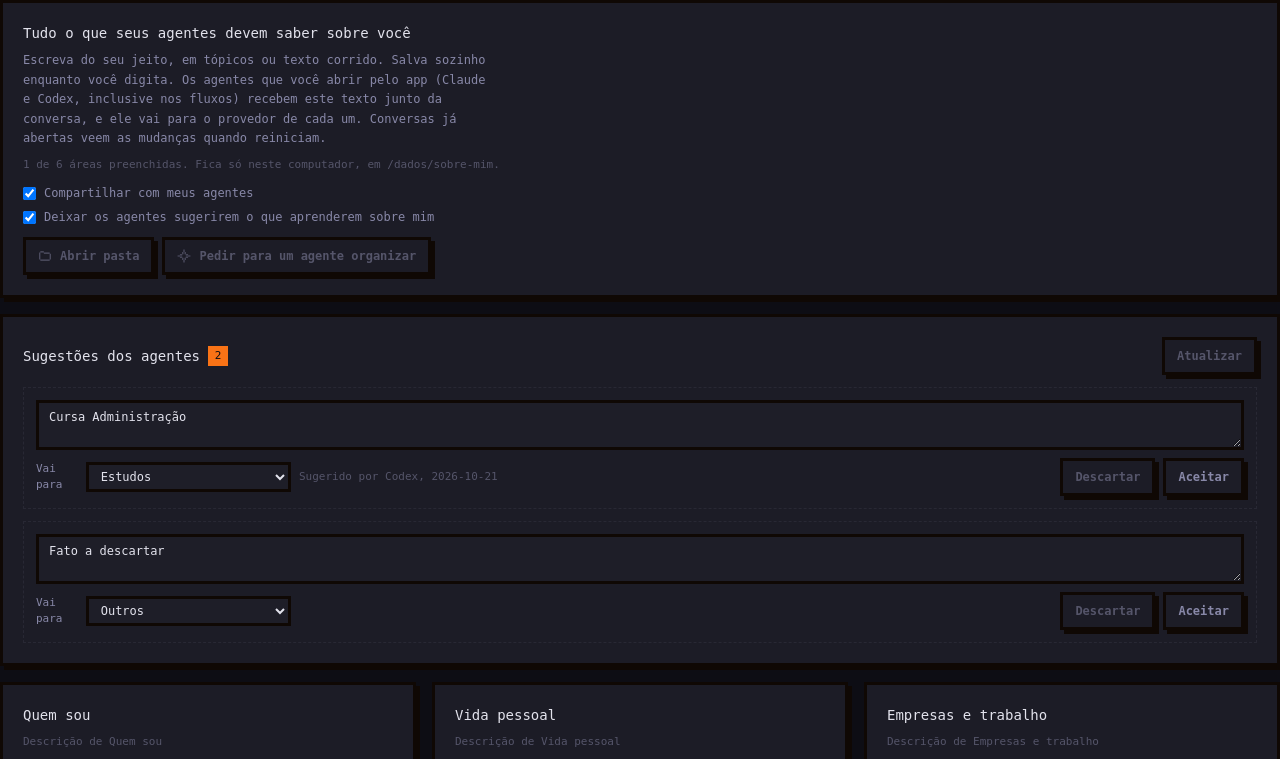
Test: desligar o compartilhamento grava o ajuste
Click the checkbox labelled "Compartilhar com meus agentes": (30, 193) x1=23 y1=186 x2=36 y2=200
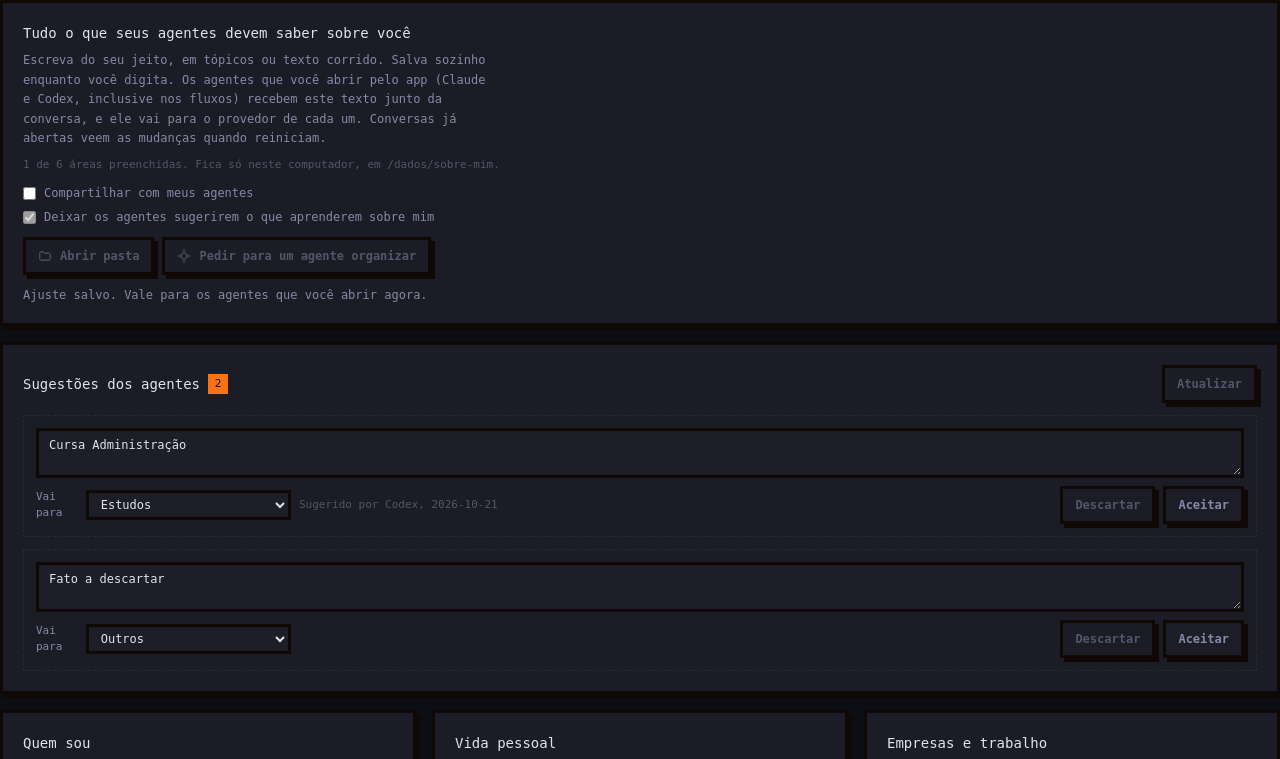
expect the text "Ajuste salvo. Vale para os agentes que você abrir agora." is shown: met, box x1=23 y1=288 x2=428 y2=302
expect the checkbox labelled "Deixar os agentes sugerirem o que aprenderem sobre mim" is disabled: met, box x1=23 y1=210 x2=36 y2=224
